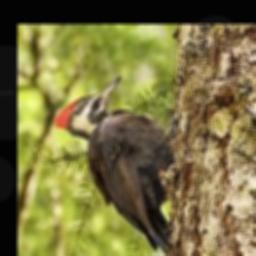Woodpecker: (55, 75, 175, 255)
